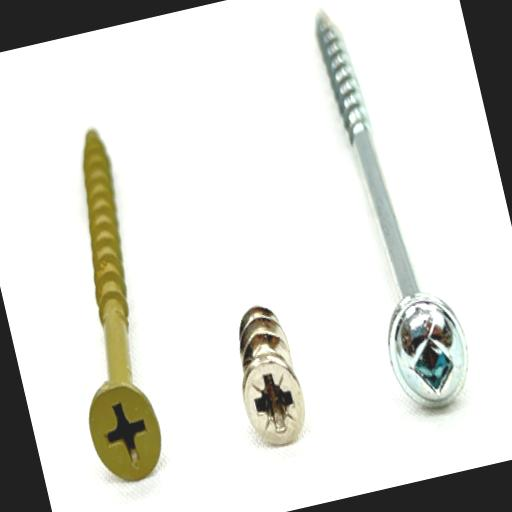Phillips: (78, 370, 172, 492), (236, 353, 312, 452)
